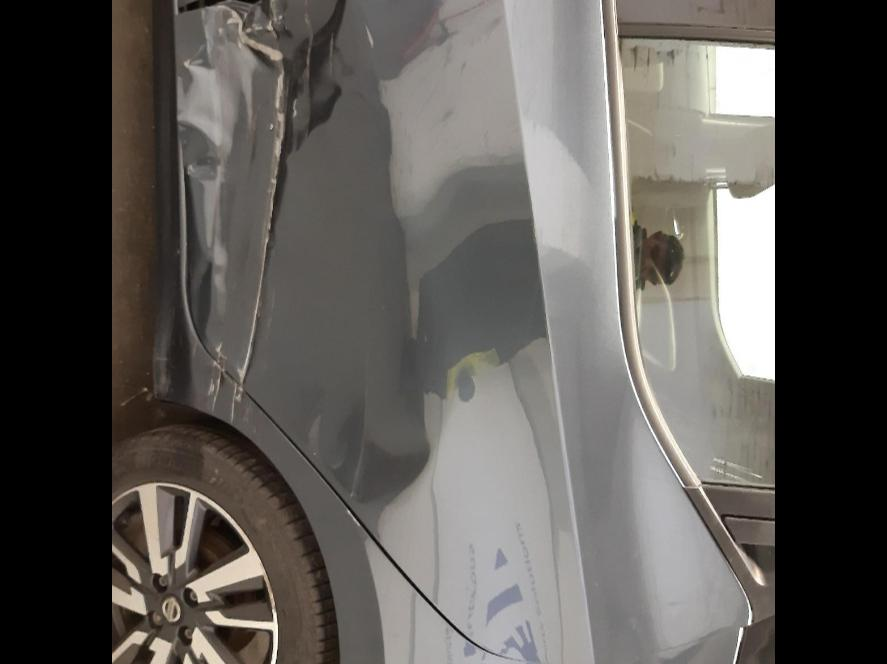Dent: (174, 0, 448, 530), (152, 312, 186, 398)
Scratch: (214, 0, 298, 416), (206, 0, 282, 64), (346, 362, 366, 501), (204, 338, 229, 410), (243, 0, 284, 40), (302, 0, 314, 76), (364, 24, 380, 54), (230, 371, 238, 424), (328, 34, 336, 78), (344, 508, 360, 524), (292, 94, 302, 116), (264, 0, 286, 8)
